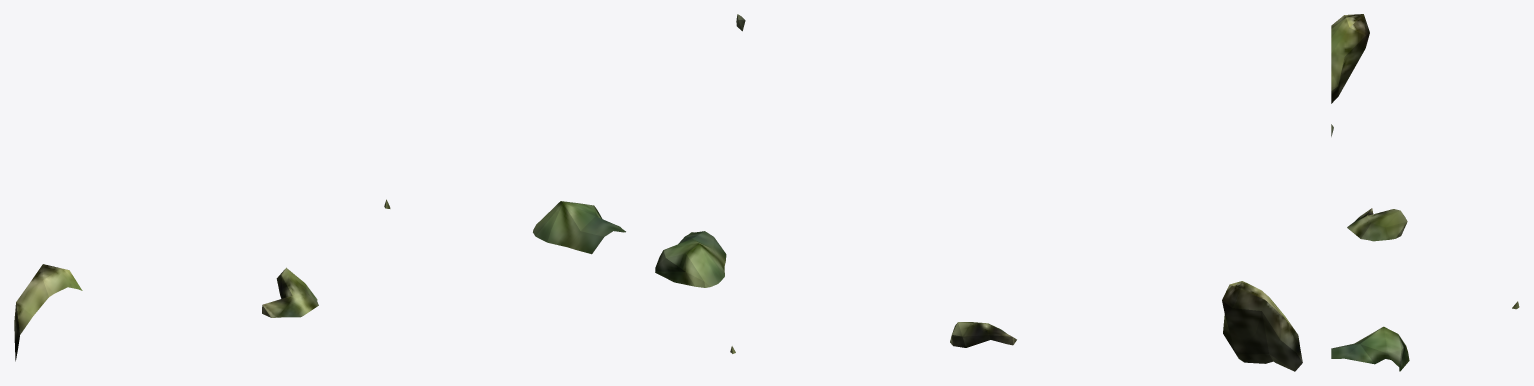
3 renders of one model, left to right at view 1: azimuth 30°, elevation 25°; view 2: azimuth 150°, elevation 25°; view 3: azimuth 270°, elevation 25°, orthographic. The views are drawn at different scales.
Size of the model in its own units: 1.63 by 0.6203 by 0.4665.
Materials: 1 (1 with a texture image).
